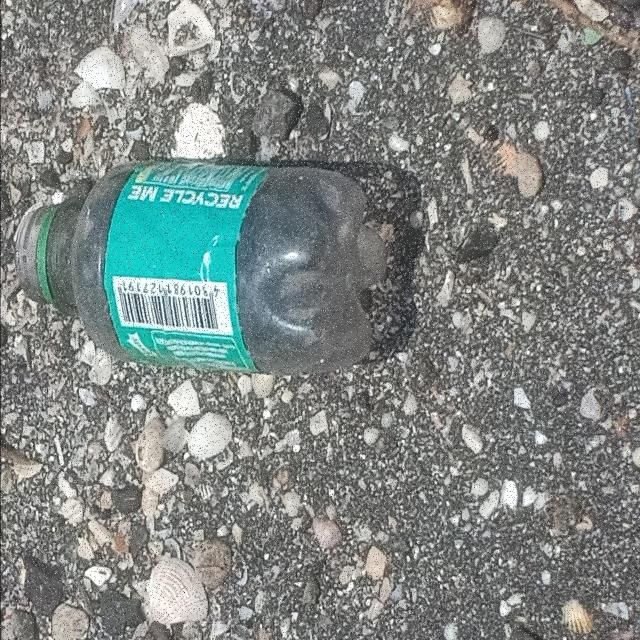plastic_waste: (16, 154, 387, 374)
